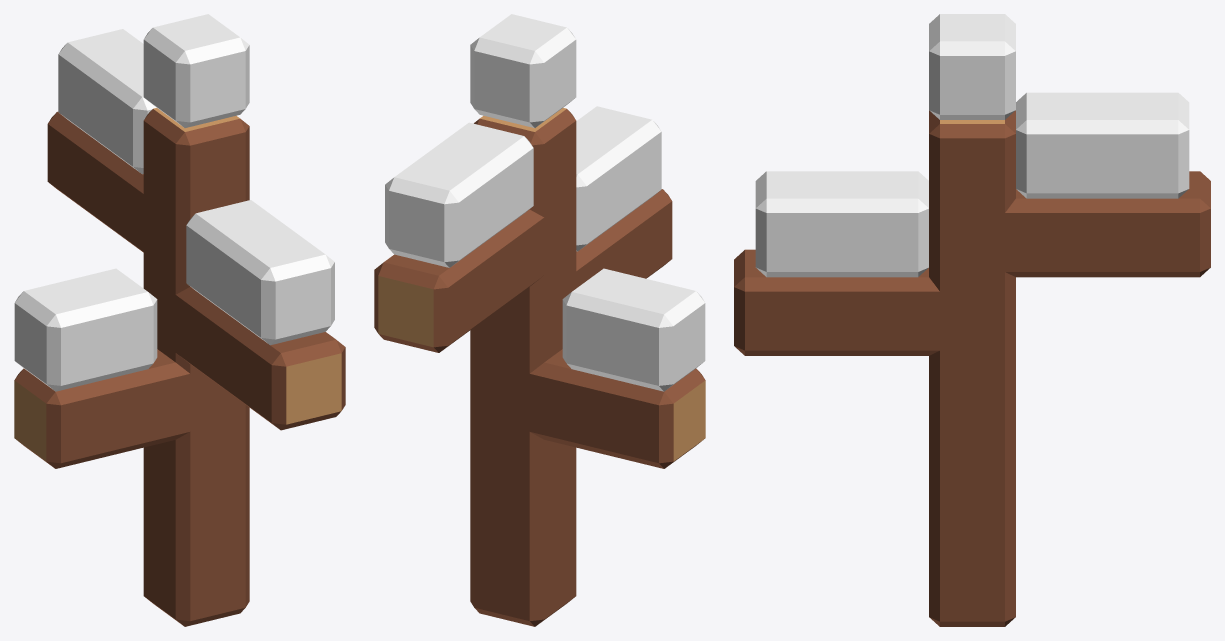
File: Bush 3.fbx
The picture shows the model from 3 angles, left to right: view 1: azimuth 30°, elevation 25°; view 2: azimuth 150°, elevation 25°; view 3: azimuth 270°, elevation 25°; orthographic projection.
Parts seen in each view (by area): view 1: Trunk_1, Snow_2, Trunk_4, Snow_1, Trunk_2, Snow_5, Snow_3, Trunk_3; view 2: Trunk_1, Snow_3, Snow_1, Trunk_4, Trunk_3, Snow_5, Snow_2, Trunk_2; view 3: Trunk_1, Snow_2, Snow_3, Trunk_3, Trunk_2, Snow_5.
Part boxes in pixels (x1,y1,x2,y2): Trunk_1: (143, 108, 249, 626); Snow_2: (186, 200, 334, 345); Trunk_4: (14, 349, 227, 468); Snow_1: (14, 268, 157, 391); Trunk_2: (175, 287, 345, 430); Snow_5: (143, 14, 249, 127); Snow_3: (58, 29, 156, 174); Trunk_3: (47, 111, 143, 252); Trunk_1: (470, 108, 576, 626); Snow_3: (385, 122, 533, 267); Snow_1: (562, 268, 705, 391); Trunk_4: (496, 349, 705, 468); Trunk_3: (374, 209, 544, 352); Snow_5: (470, 14, 576, 127); Snow_2: (576, 106, 661, 251); Trunk_2: (576, 189, 672, 288); Trunk_1: (929, 110, 1015, 626); Snow_2: (755, 171, 928, 277); Snow_3: (1016, 92, 1189, 198); Trunk_3: (1005, 171, 1210, 277); Trunk_2: (734, 249, 939, 355); Snow_5: (929, 14, 1015, 119).
Bounding box in the file's own units: 0.275 × 0.745 × 0.55.
